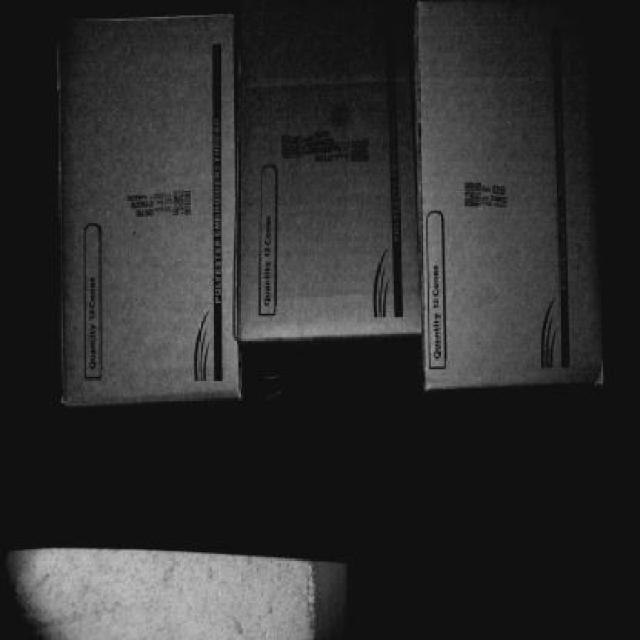box: (425, 10, 610, 388), (62, 17, 241, 397), (250, 3, 424, 340)
